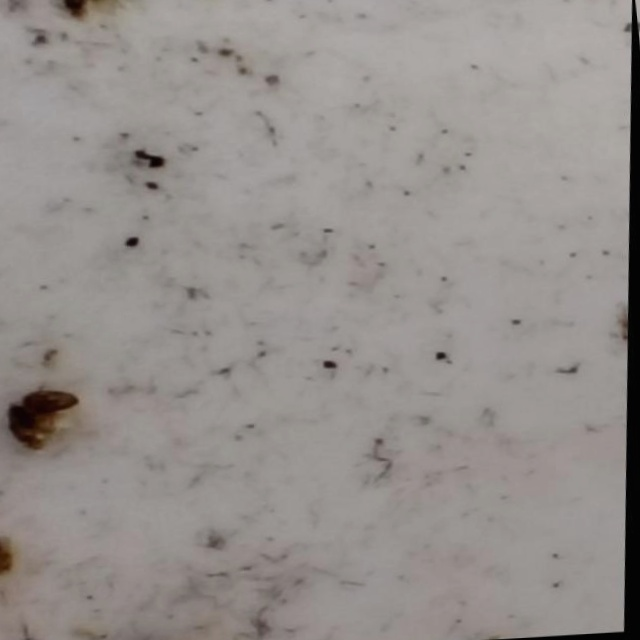varroa: (27, 388, 85, 421)
